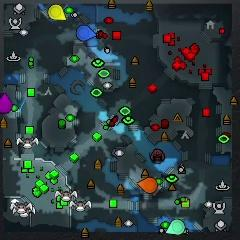p1: (76, 25, 96, 41)
p2: (166, 220, 185, 234)
p3: (0, 93, 12, 113)
p4: (48, 5, 66, 20)
p5: (137, 178, 157, 193)
